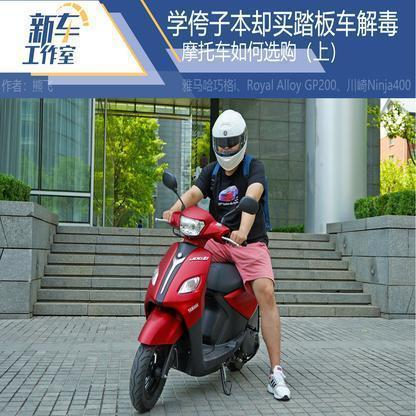target: (128, 107, 291, 414)
